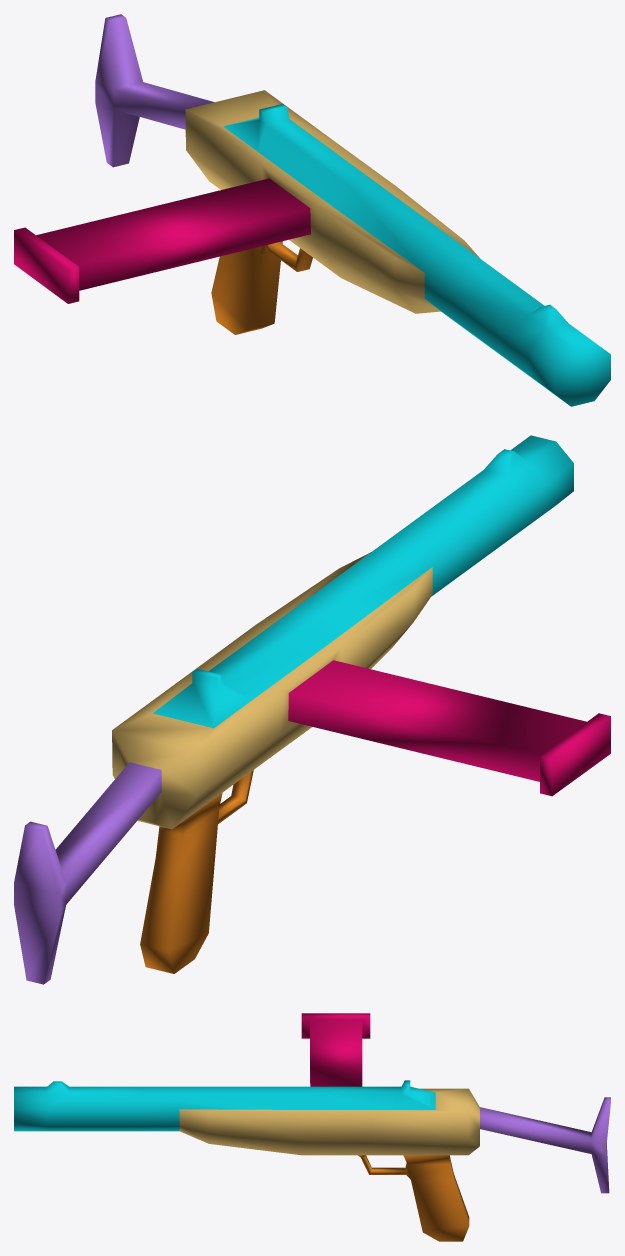
File: gun2.fbx
3 views of the same model, one above another, from view 1: azimuth 30°, elevation 25°; view 2: azimuth 150°, elevation 25°; view 3: azimuth 270°, elevation 25° (orthographic). The views are drawn at different scales.
Visible parts, largest first — view 1: GUN_big; view 2: GUN_big; view 3: GUN_big.
Part boxes in pixels (x1=…): GUN_big: x1=14, y1=14, x2=610, y2=406; GUN_big: x1=14, y1=435, x2=610, y2=984; GUN_big: x1=14, y1=1013, x2=610, y2=1241.
Size of the model in its own units: 51.23 by 36.33 by 127.
